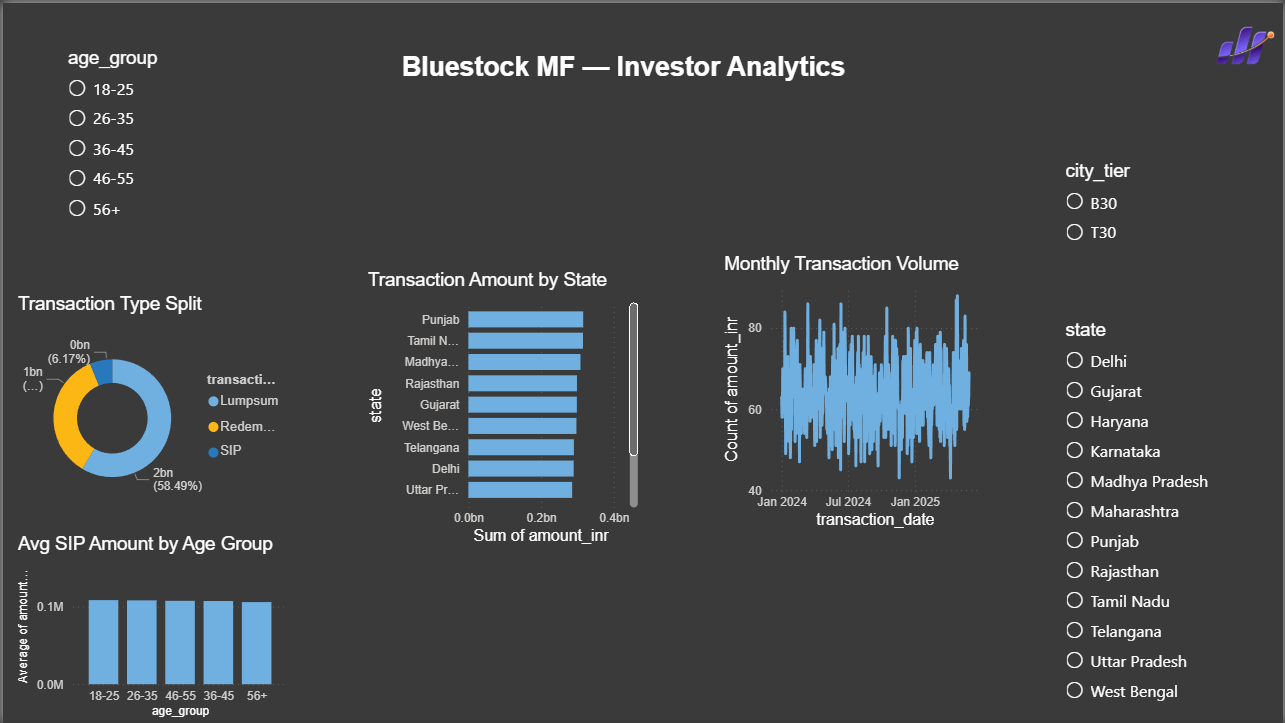

The dashboard page shown, as its layout file describes it:
{"tool":"powerbi","page":{"name":"Investor Analytics","canvas":[1280,720],"ordinal":2},"visuals":[{"type":"clusteredBarChart","title":"Transaction Amount by State","fields":{"Category":["clean_transactions.state"],"Y":["Sum(clean_transactions.amount_inr)"]},"box":[360,266,280,280],"z":0},{"type":"donutChart","title":"Transaction Type Split","fields":{"Category":["clean_transactions.transaction_type"],"Y":["Sum(clean_transactions.amount_inr)"]},"box":[10,290,280,230],"z":1},{"type":"clusteredColumnChart","title":"Avg SIP Amount by Age Group","fields":{"Category":["clean_transactions.age_group"],"Y":["Avg(clean_transactions.amount_inr)"]},"box":[10,530,280,190],"z":2},{"type":"lineChart","title":"Monthly Transaction Volume","fields":{"Category":["clean_transactions.transaction_date"],"Y":["CountNonNull(clean_transactions.amount_inr)"]},"box":[716,250,280,280],"z":3},{"type":"listSlicer","fields":{"Values":["clean_transactions.state"]},"box":[1058,316,222,404],"z":4},{"type":"listSlicer","fields":{"Values":["clean_transactions.city_tier"]},"box":[1058,158,178,132],"z":5},{"type":"listSlicer","fields":{"Values":["clean_transactions.age_group"]},"box":[60,44,178,202],"z":6},{"type":"image","box":[1204,0,76,86],"z":7},{"type":"textbox","box":[212,44,816,68],"z":8}]}

Visuals, with their boxes in screenshot pixels (x1, y1, x2, y2), scaled from the page's 1280x720 canvas onto the 1285x723 screenshot:
"Transaction Amount by State" clusteredBarChart: select_region(361, 267, 642, 548)
"Transaction Type Split" donutChart: select_region(10, 291, 291, 522)
"Avg SIP Amount by Age Group" clusteredColumnChart: select_region(10, 532, 291, 722)
"Monthly Transaction Volume" lineChart: select_region(719, 251, 1000, 532)
listSlicer - clean_transactions.state: select_region(1062, 317, 1284, 722)
listSlicer - clean_transactions.city_tier: select_region(1062, 159, 1241, 291)
listSlicer - clean_transactions.age_group: select_region(60, 44, 239, 247)
image: select_region(1209, 0, 1284, 86)
textbox: select_region(213, 44, 1032, 112)
